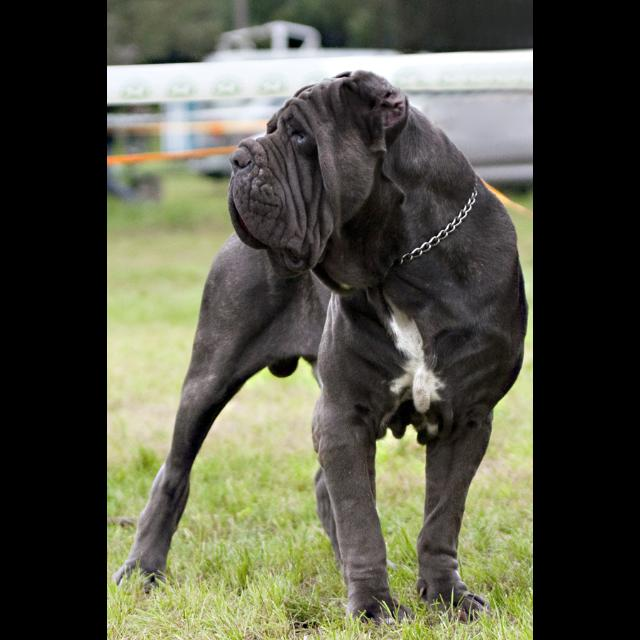mastino_napoletano: (119, 69, 527, 622)
